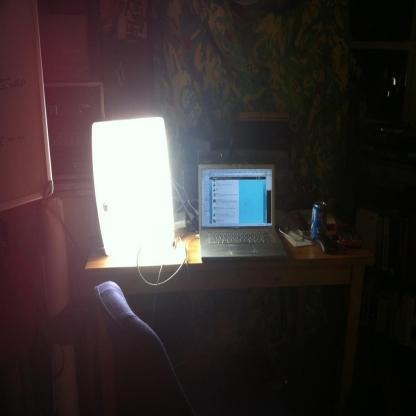board: (198, 163, 284, 269), (312, 201, 327, 240)
